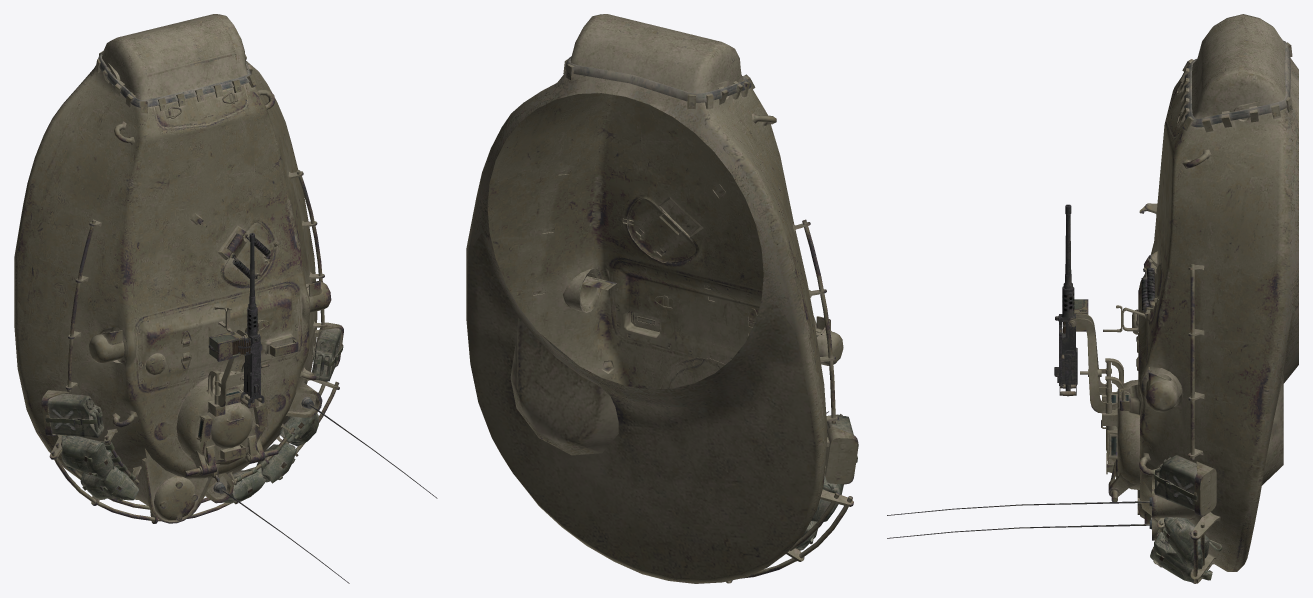
The model's file is Turret_02.glb.
3 views of the same model, side by side, from view 1: azimuth 30°, elevation 25°; view 2: azimuth 150°, elevation 25°; view 3: azimuth 270°, elevation 25° (orthographic). The views are drawn at different scales.
Visible parts, largest first — view 1: set_0_group_0; view 2: set_0_group_0; view 3: set_0_group_0.
Part boxes in pixels (x1=…): set_0_group_0: x1=14, y1=14, x2=437, y2=583; set_0_group_0: x1=466, y1=14, x2=858, y2=583; set_0_group_0: x1=887, y1=14, x2=1298, y2=583.
Bounding box in the file's own units: 3.1 × 4.64 × 3.3.
1 material, 1 textured.
